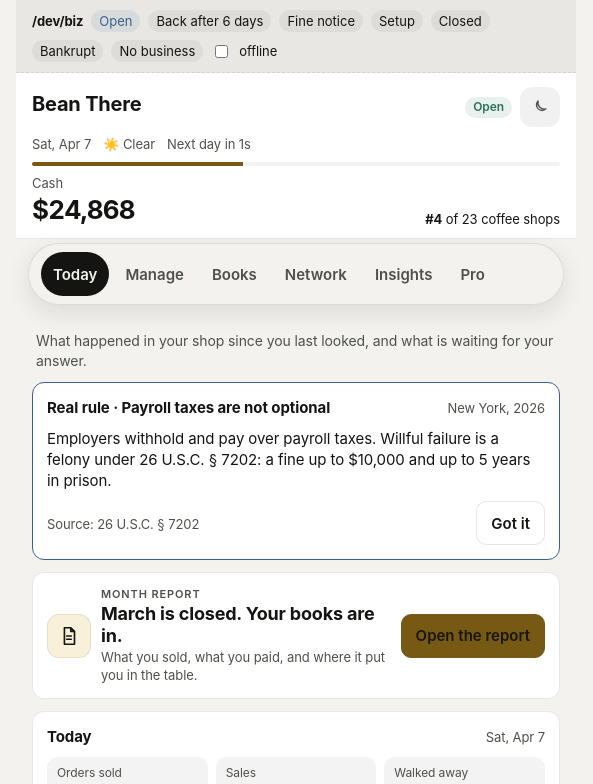
it: /biz renders every state from samples › /dev/biz opens without a server and switches states
This screenshot has width=593, height=784.
Expected: the text "/dev/biz" is shown, [32, 12, 83, 30]
Click the button "Bankrupt".
click(68, 51)  # box [32, 40, 103, 62]
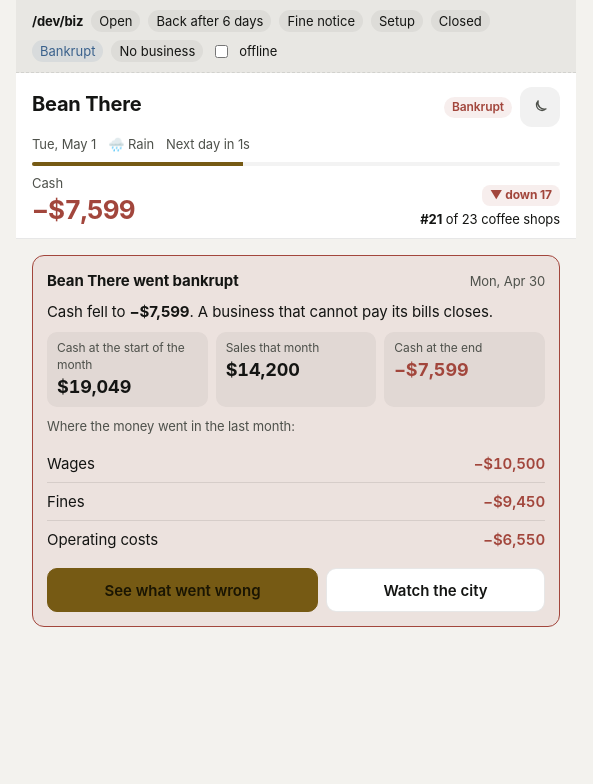
Result: the heading "Bean There went bankrupt" is shown at [47, 270, 239, 291]
Click the button "Setup".
click(397, 21)  # box [371, 10, 423, 32]
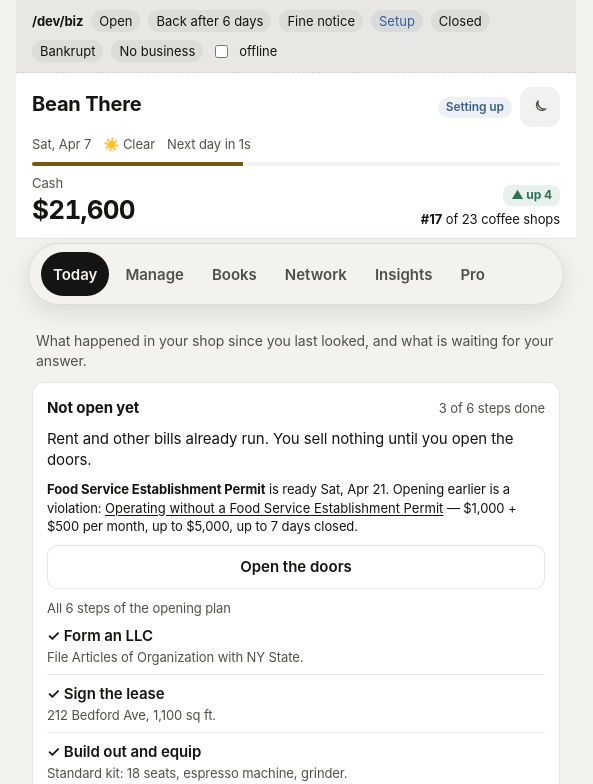
Result: the heading "Not open yet" is shown at [47, 397, 139, 418]
